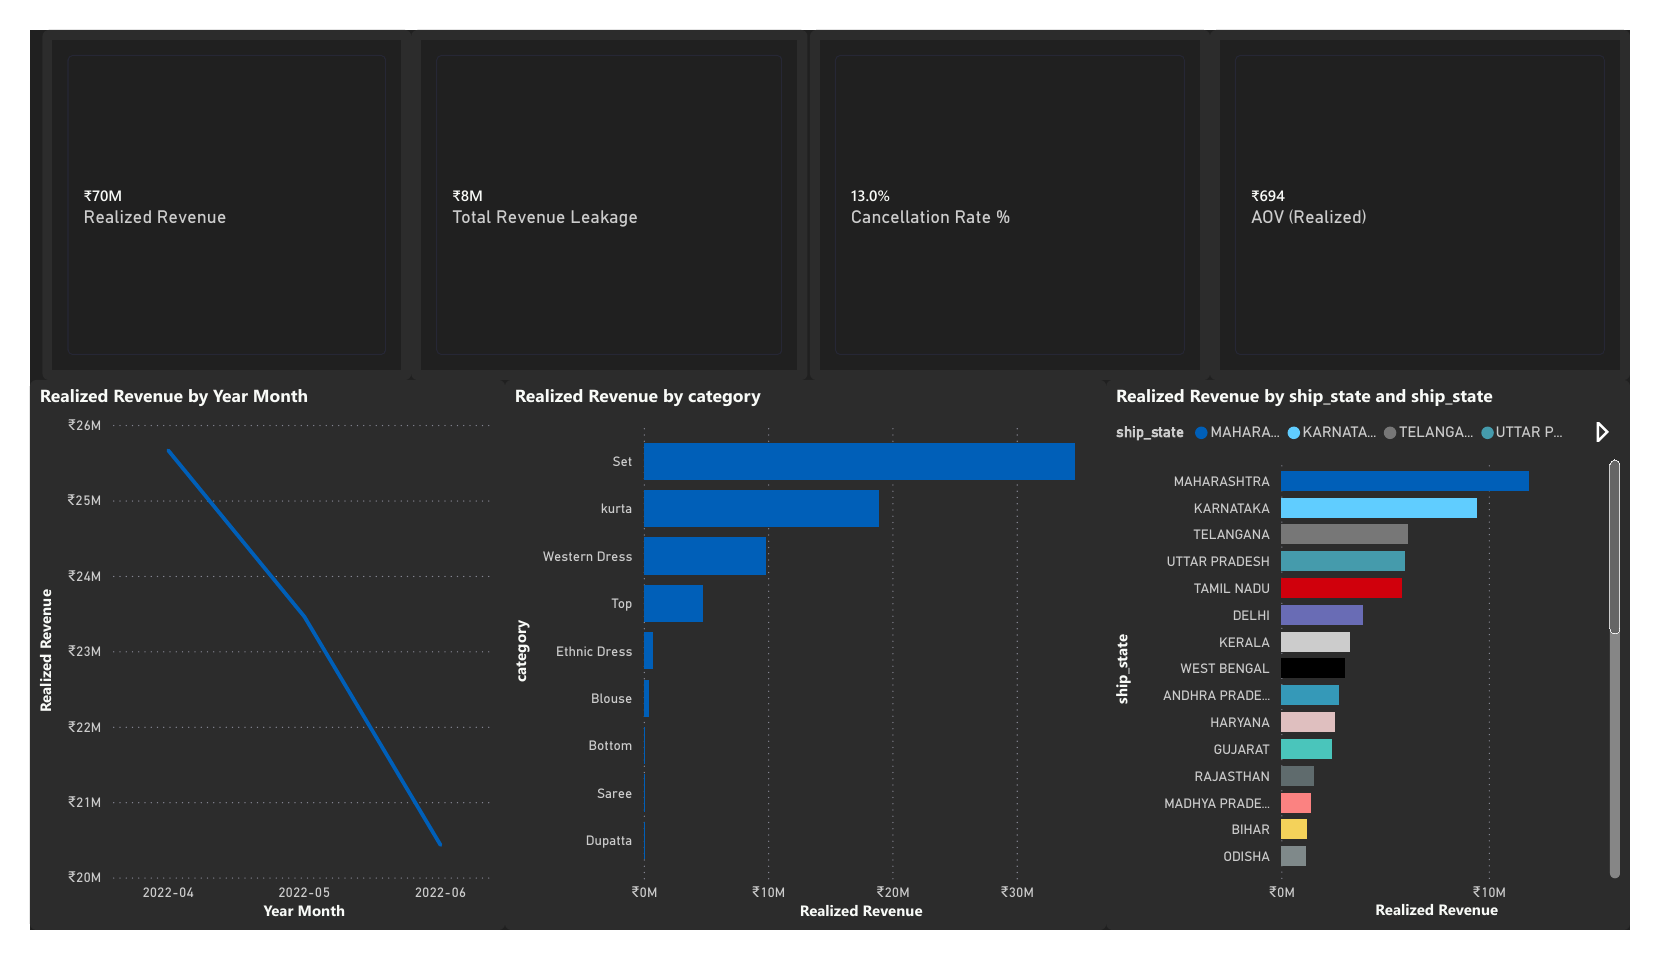

What the dashboard file says about the page in this screenshot:
{"tool":"powerbi","page":{"name":"Page 1","canvas":[1280,720],"ordinal":0},"visuals":[{"type":"cardVisual","fields":{"Data":["amazon_big amazon_sale_report2_clean.Realized Revenue"]},"box":[9.7,0,295.7,280.1],"z":0},{"type":"cardVisual","fields":{"Data":["amazon_big amazon_sale_report2_clean.Cancellation Rate %"]},"box":[624.4,0,320,280.1],"z":1000},{"type":"cardVisual","fields":{"Data":["amazon_big amazon_sale_report2_clean.AOV (Realized)"]},"box":[944.4,0,335.6,280],"z":2000},{"type":"cardVisual","fields":{"Data":["amazon_big amazon_sale_report2_clean.Total Revenue Leakage"]},"box":[305.4,0,317.1,280.1],"z":3000},{"type":"lineChart","fields":{"Category":["Dim_Date.Year Month"],"Y":["amazon_big amazon_sale_report2_clean.Realized Revenue"]},"box":[0,280,380,440],"z":4000},{"type":"clusteredBarChart","fields":{"Category":["amazon_big amazon_sale_report2_clean.category"],"Y":["amazon_big amazon_sale_report2_clean.Realized Revenue"]},"box":[380,280,481.1,440],"z":5000},{"type":"barChart","fields":{"Category":["amazon_big amazon_sale_report2_clean.ship_state"],"Y":["amazon_big amazon_sale_report2_clean.Realized Revenue"],"Series":["amazon_big amazon_sale_report2_clean.ship_state"]},"box":[861.1,280,418.9,440],"z":6000}]}

Visuals, with their boxes in screenshot pixels (x1, y1, x2, y2), scaled from the page's 1280x720 canvas onto the 1660x960 screenshot:
cardVisual - amazon_big amazon_sale_report2_clean.Realized Revenue: bbox=(13, 0, 396, 373)
cardVisual - amazon_big amazon_sale_report2_clean.Cancellation Rate %: bbox=(810, 0, 1225, 373)
cardVisual - amazon_big amazon_sale_report2_clean.AOV (Realized): bbox=(1225, 0, 1659, 373)
cardVisual - amazon_big amazon_sale_report2_clean.Total Revenue Leakage: bbox=(396, 0, 807, 373)
lineChart - Dim_Date.Year Month x amazon_big amazon_sale_report2_clean.Realized Revenue: bbox=(0, 373, 493, 959)
clusteredBarChart - amazon_big amazon_sale_report2_clean.category x amazon_big amazon_sale_report2_clean.Realized Revenue: bbox=(493, 373, 1117, 959)
barChart - amazon_big amazon_sale_report2_clean.ship_state x amazon_big amazon_sale_report2_clean.Realized Revenue: bbox=(1117, 373, 1659, 959)
